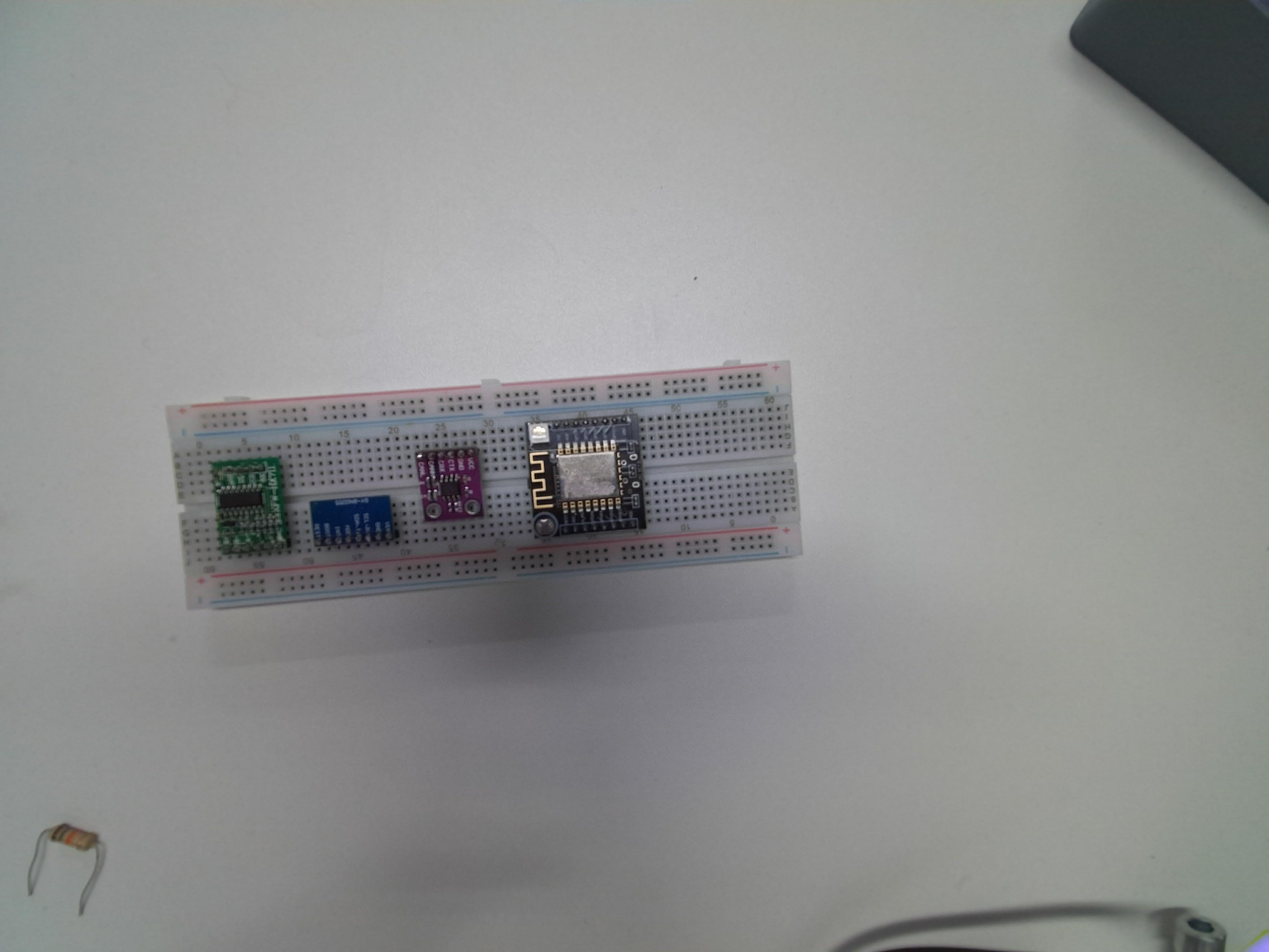base: (164, 364, 804, 614)
blue-board: (308, 491, 400, 549)
esp: (526, 412, 649, 541)
green-board: (206, 451, 292, 558)
purple-board: (415, 444, 486, 522)
